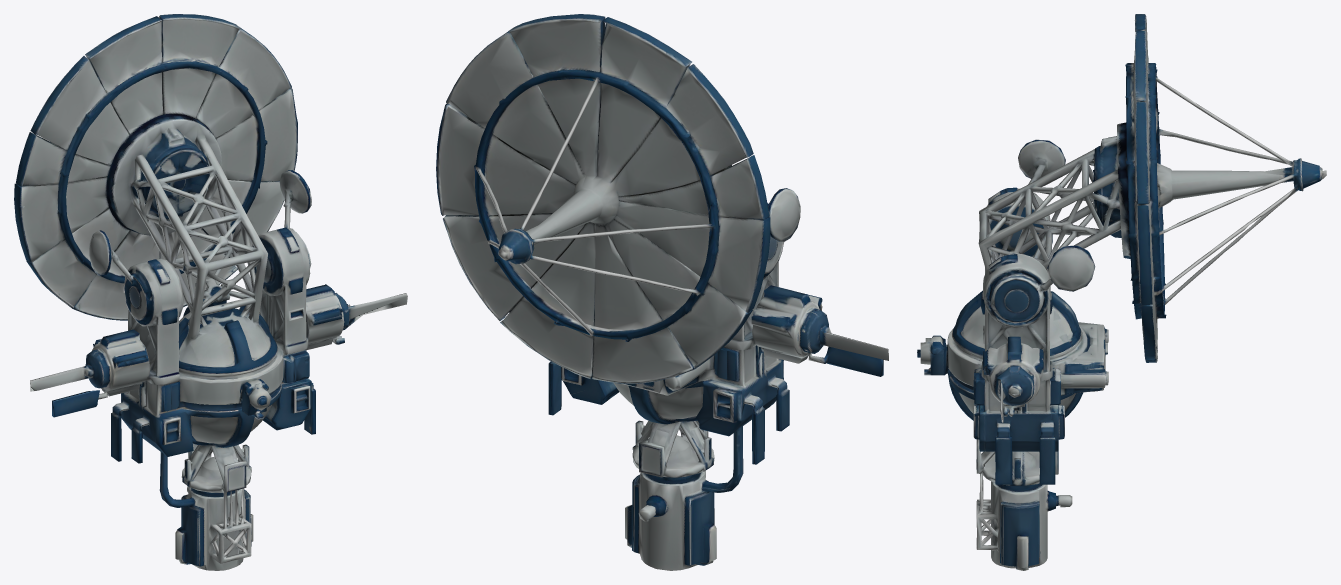
The model's file is Casa5.glb.
The picture shows the model from 3 angles, left to right: view 1: azimuth 30°, elevation 25°; view 2: azimuth 150°, elevation 25°; view 3: azimuth 270°, elevation 25°; orthographic projection. The views are drawn at different scales.
Parts seen in each view (by area): view 1: tripo_node_279da013-5e32-4f23-bef7-44d938d2192a; view 2: tripo_node_279da013-5e32-4f23-bef7-44d938d2192a; view 3: tripo_node_279da013-5e32-4f23-bef7-44d938d2192a.
Part boxes in pixels (left/top/right/bottom): tripo_node_279da013-5e32-4f23-bef7-44d938d2192a: left=14, top=14, right=407, bottom=570; tripo_node_279da013-5e32-4f23-bef7-44d938d2192a: left=436, top=14, right=888, bottom=570; tripo_node_279da013-5e32-4f23-bef7-44d938d2192a: left=917, top=14, right=1326, bottom=570.
Bounding box in the file's own units: 0.7525 × 0.9797 × 0.687.
Materials: 1 (1 with a texture image).
